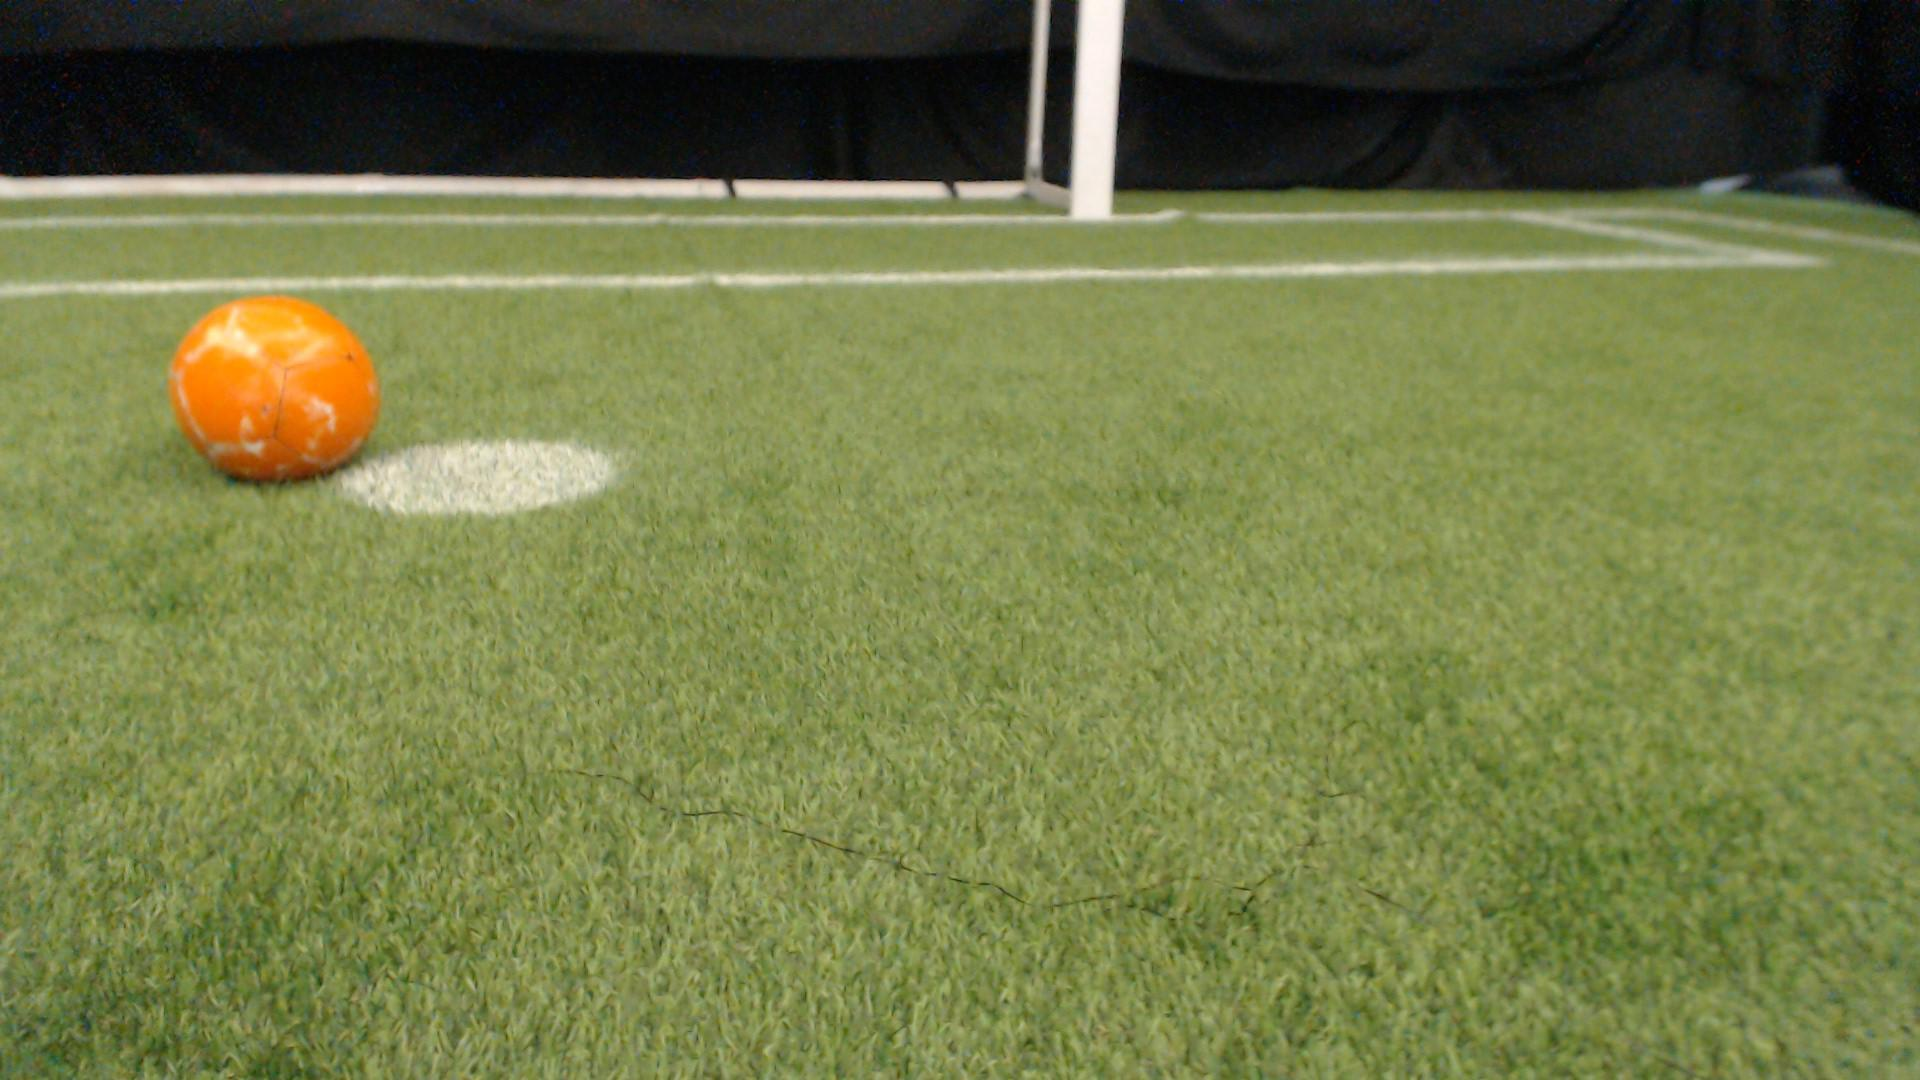bola: (158, 258, 400, 497)
